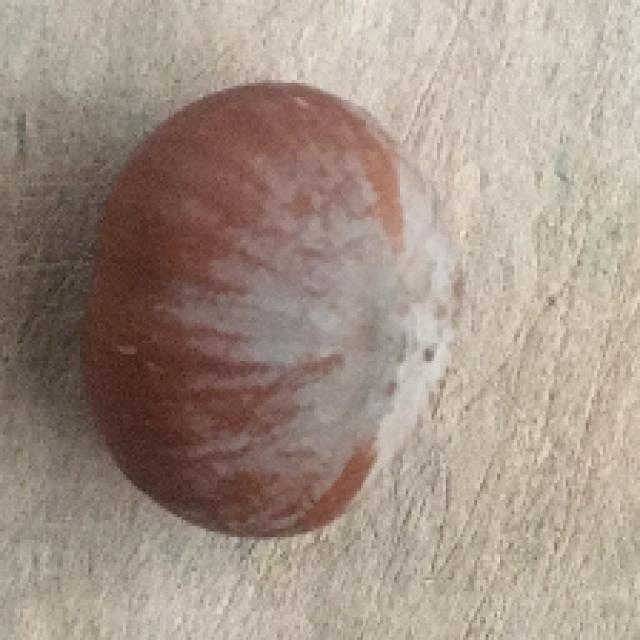QualityHazelnut: (85, 77, 465, 539)
